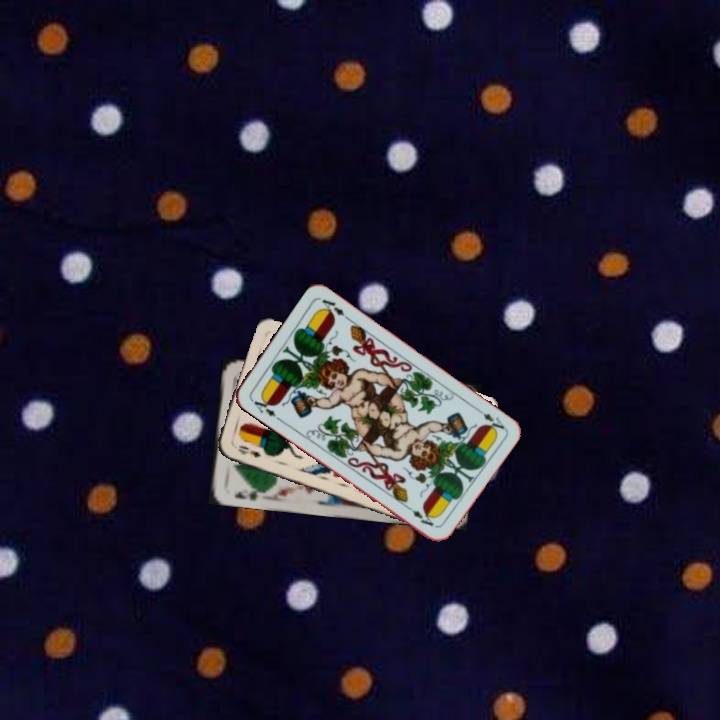EA: (472, 403, 507, 434), (250, 392, 279, 419)
EO: (234, 441, 263, 460)
GK: (231, 484, 265, 504)
